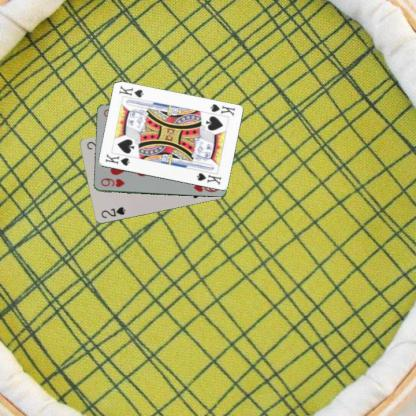2s: (98, 204, 127, 219)
9h: (98, 176, 126, 188)
Ks: (102, 151, 131, 167), (208, 102, 236, 117)
